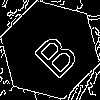B: (25, 25, 81, 81)
